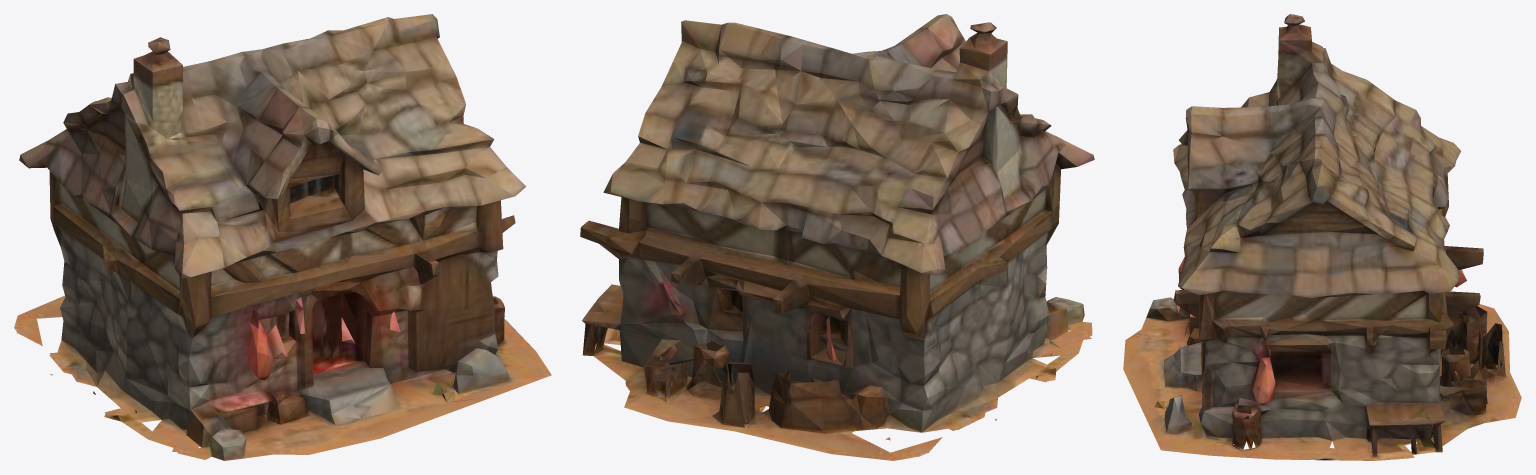
File: butcher_house_lod1.glb
3 views of the same model, side by side, from view 1: azimuth 30°, elevation 25°; view 2: azimuth 150°, elevation 25°; view 3: azimuth 270°, elevation 25° (orthographic). The views are drawn at different scales.
Parts seen in each view (by area): view 1: butcher_house_lod1; view 2: butcher_house_lod1; view 3: butcher_house_lod1.
Boxes of the visible parts, bbox=[...] form: butcher_house_lod1: bbox=[14, 14, 551, 460]; butcher_house_lod1: bbox=[580, 14, 1094, 460]; butcher_house_lod1: bbox=[1123, 14, 1521, 460].
Bounding box in the file's own units: 7.71 × 6.47 × 7.69.
Materials: 1 (1 with a texture image).
